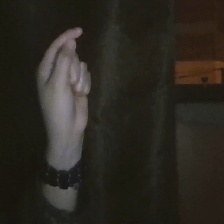T: (29, 22, 109, 153)
